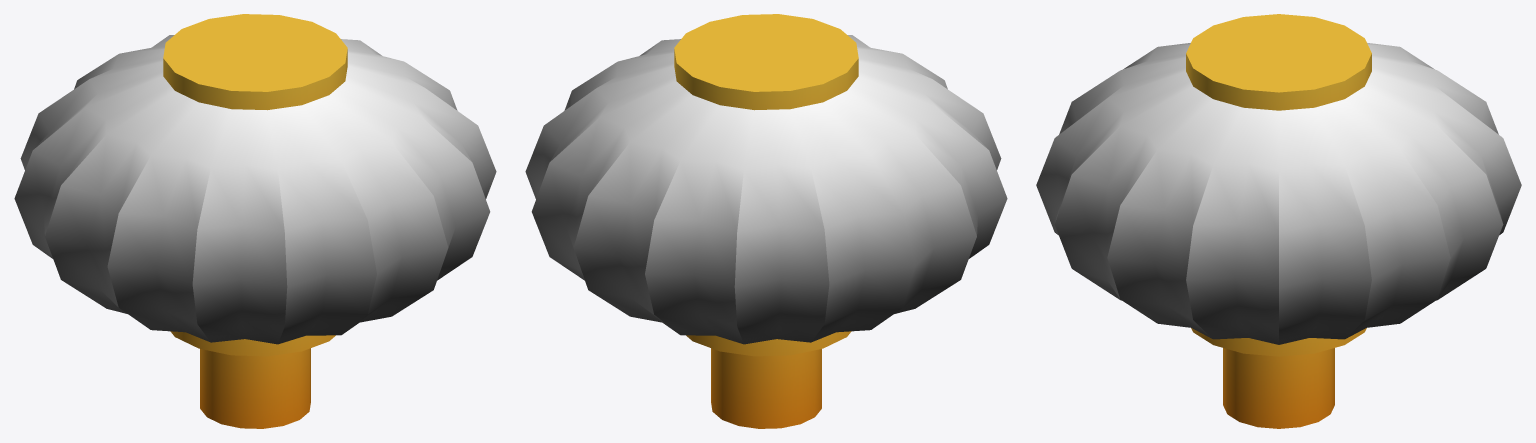
The model's file is SM_RoundLanttern.fbx.
3 views of the same model, side by side, from view 1: azimuth 30°, elevation 25°; view 2: azimuth 150°, elevation 25°; view 3: azimuth 270°, elevation 25° (orthographic).
Parts seen in each view (by area): view 1: Sphere.004; view 2: Sphere.004; view 3: Sphere.004.
Part boxes in pixels (<box>): Sphere.004: <box>14,14,496,428</box>; Sphere.004: <box>525,14,1007,428</box>; Sphere.004: <box>1036,14,1521,428</box>.
Size of the model in its own units: 108 by 86.64 by 108.
